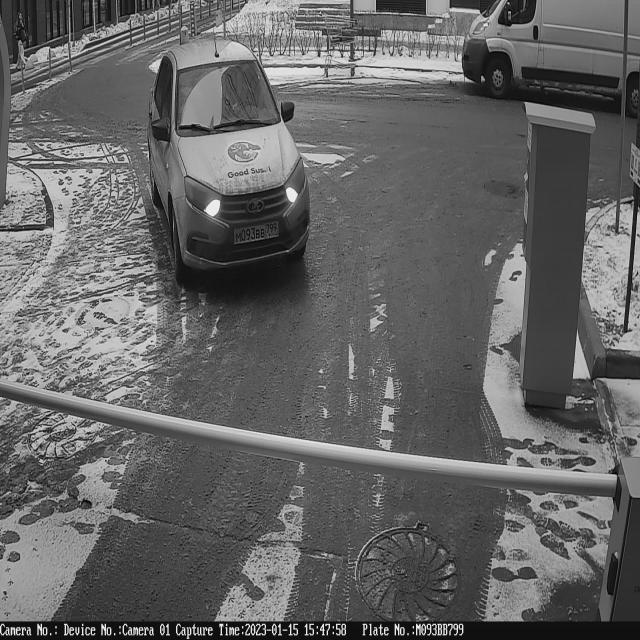car-plate-numbers: (229, 220, 284, 254)
